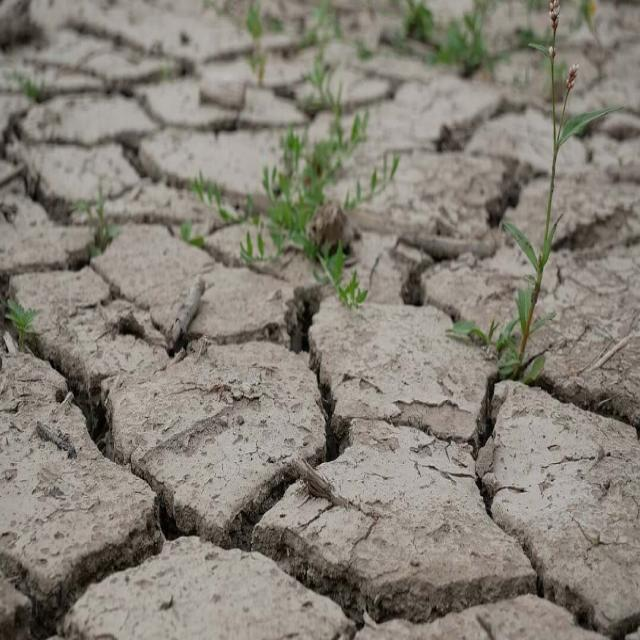Clay Soil: (8, 64, 266, 585), (380, 78, 620, 603)
